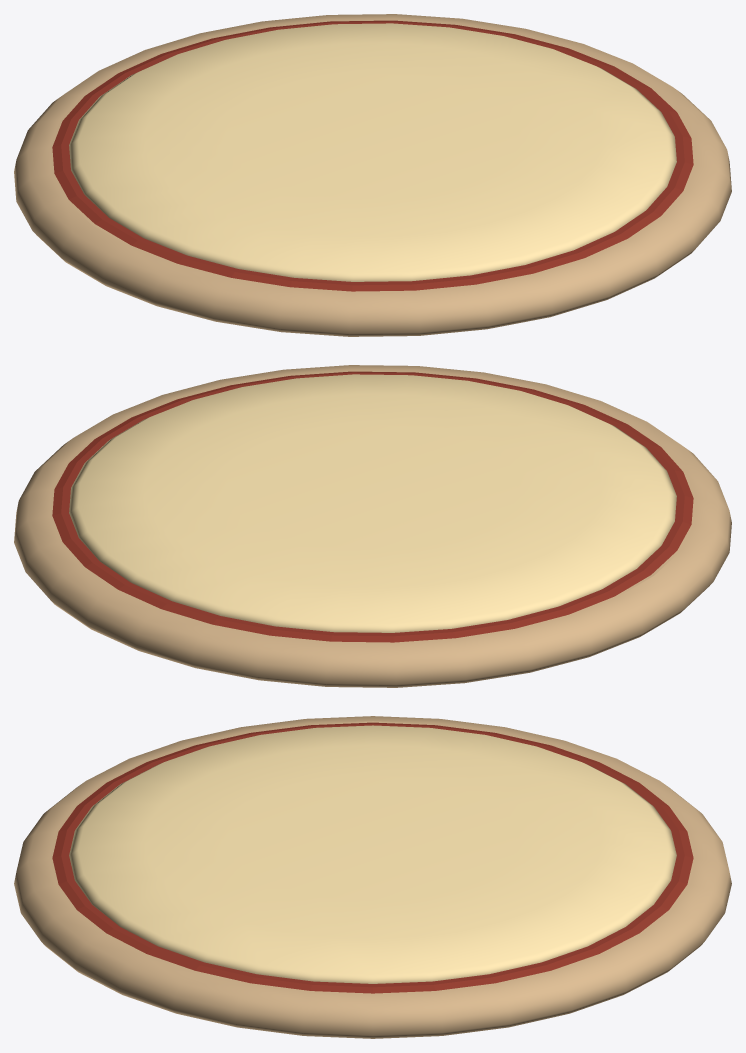
File: Pizza.glb
The picture shows the model from 3 angles, top to bottom: view 1: azimuth 30°, elevation 25°; view 2: azimuth 150°, elevation 25°; view 3: azimuth 270°, elevation 25°; orthographic projection.
Visible parts, largest first — view 1: Cheese, Crust, Sauce; view 2: Cheese, Crust, Sauce; view 3: Cheese, Crust, Sauce.
Boxes of the visible parts, x1=… form: Cheese: x1=69, y1=23, x2=676, y2=281; Crust: x1=14, y1=14, x2=731, y2=336; Sauce: x1=52, y1=20, x2=693, y2=291; Cheese: x1=69, y1=374, x2=676, y2=632; Crust: x1=14, y1=365, x2=731, y2=687; Sauce: x1=52, y1=371, x2=693, y2=642; Cheese: x1=69, y1=725, x2=676, y2=983; Crust: x1=14, y1=716, x2=731, y2=1038; Sauce: x1=52, y1=722, x2=693, y2=993.
Bounding box in the file's own units: 0.6401 × 0.0519 × 0.6401.
